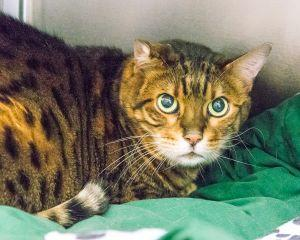bengal: (112, 28, 277, 178)
